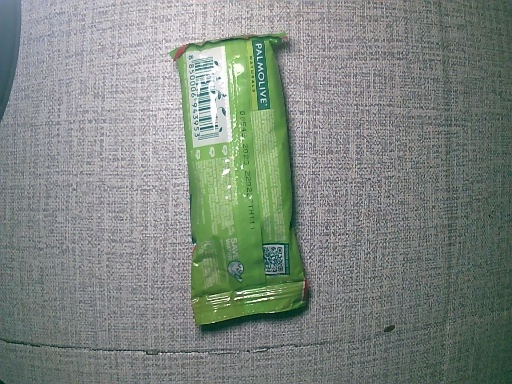plastic: (181, 32, 296, 327)
